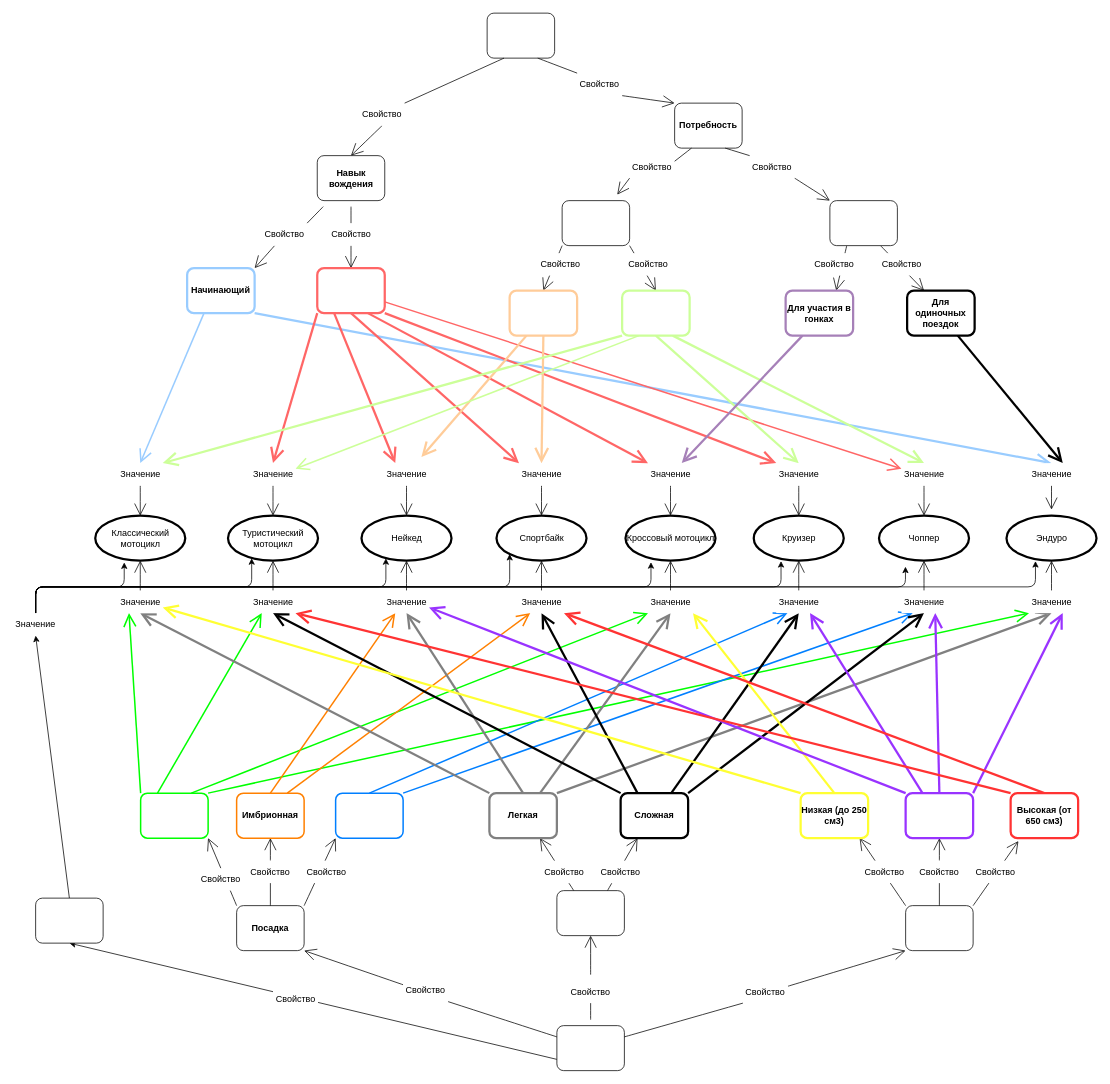
The diagram is 1110 pixels wide and 1084 high, and some of its shapes have lost their labels. The shapes that lost their labels are listed below. From the top down, each one's centre as x and y in pixels, then its label:
At point (520, 35): "Клиент".
At point (595, 223): "Для дорог общего пользования".
At point (863, 223): "Для лесных дорог и бездорожья".
At point (351, 290): "Опытный".
At point (543, 312): "Для быстрой езды".
At point (655, 312): "Для умеренной езды".
At point (174, 815): "Удобная прямая".
At point (369, 815): "Откинутая назад".
At point (939, 815): "Средняя (250-650 см3)".
At point (69, 920): "Вид".
At point (590, 913): "Управляемость".
At point (939, 928): "Мощность".
At point (590, 1048): "Транспортное средство (мотоцикл)".
